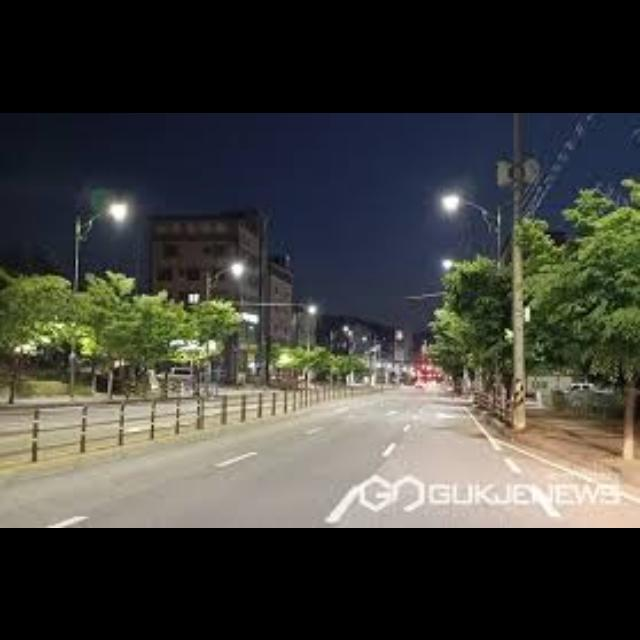Street-Lamp: (71, 176, 131, 300)
